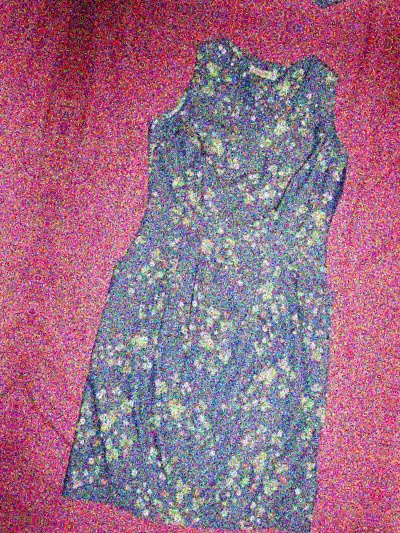Dress: (25, 10, 400, 533), (0, 0, 57, 505), (116, 0, 400, 35), (0, 524, 329, 533), (397, 73, 400, 533)
